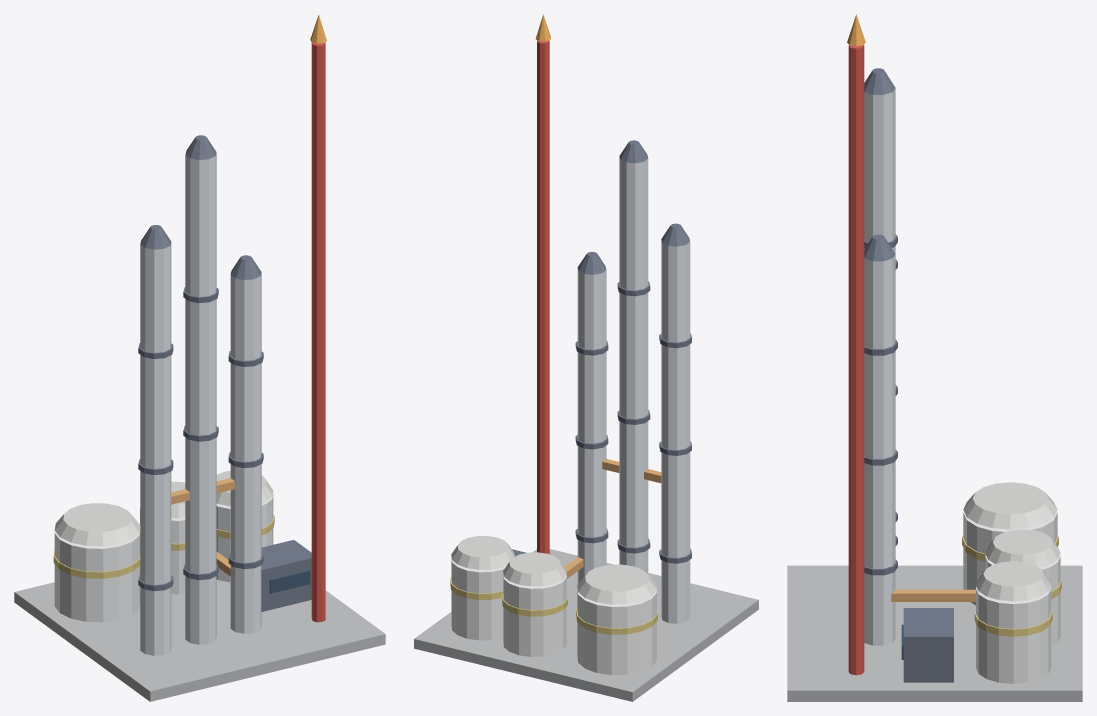
Rendered from refinery.glb.
The picture shows the model from 3 angles, left to right: view 1: azimuth 30°, elevation 25°; view 2: azimuth 150°, elevation 25°; view 3: azimuth 270°, elevation 25°; orthographic projection. The views are drawn at different scales.
Visible parts, largest first — view 1: refinery_body; view 2: refinery_body; view 3: refinery_body.
Part boxes in pixels (x1=…): refinery_body: x1=14, y1=14, x2=385, y2=701; refinery_body: x1=414, y1=14, x2=758, y2=701; refinery_body: x1=787, y1=14, x2=1082, y2=701.
Bounding box in the file's own units: 0.94 × 2.35 × 0.94.
